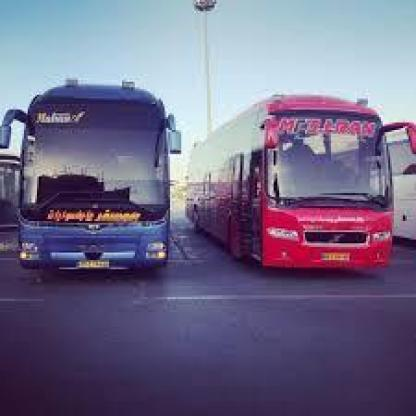Bus: (179, 96, 396, 292), (0, 61, 181, 280)
